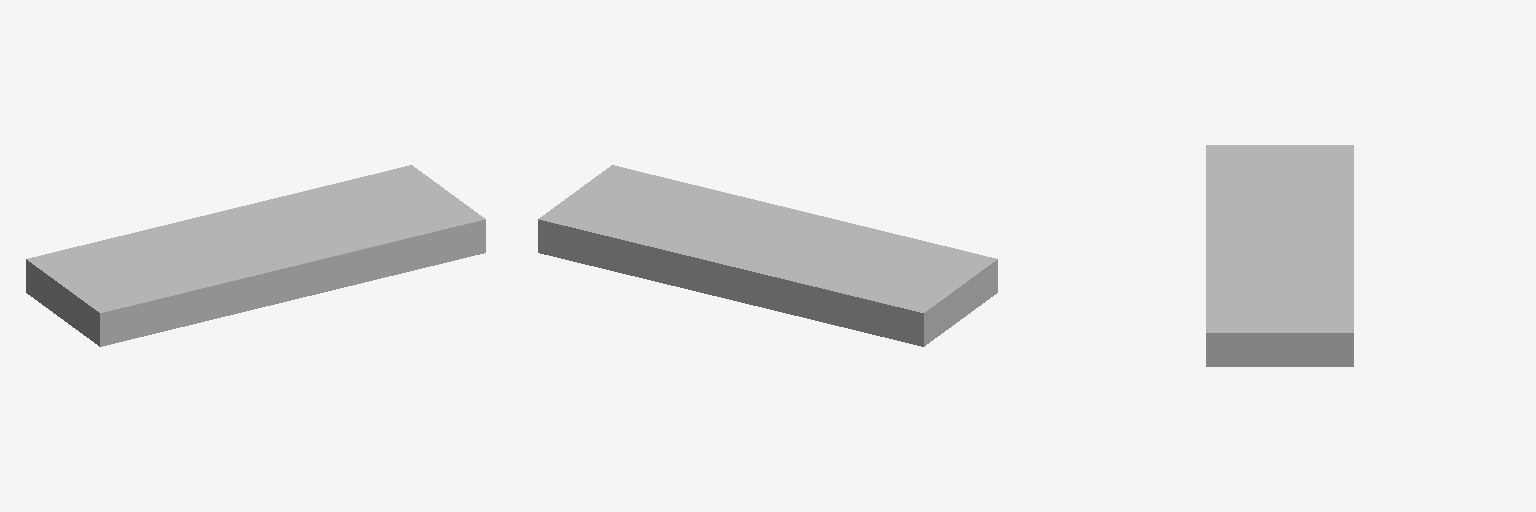
File: wood_1.obj
The picture shows the model from 3 angles: view 1: azimuth 30°, elevation 25°; view 2: azimuth 150°, elevation 25°; view 3: azimuth 270°, elevation 25°; orthographic projection.
Parts seen in each view (by area): view 1: wood_1; view 2: wood_1; view 3: wood_1.
Part boxes in pixels (x1,y1,x2,y2): wood_1: (26, 165, 485, 346); wood_1: (538, 165, 997, 346); wood_1: (1206, 145, 1353, 366).
Size of the model in its own units: 24 by 2 by 8.